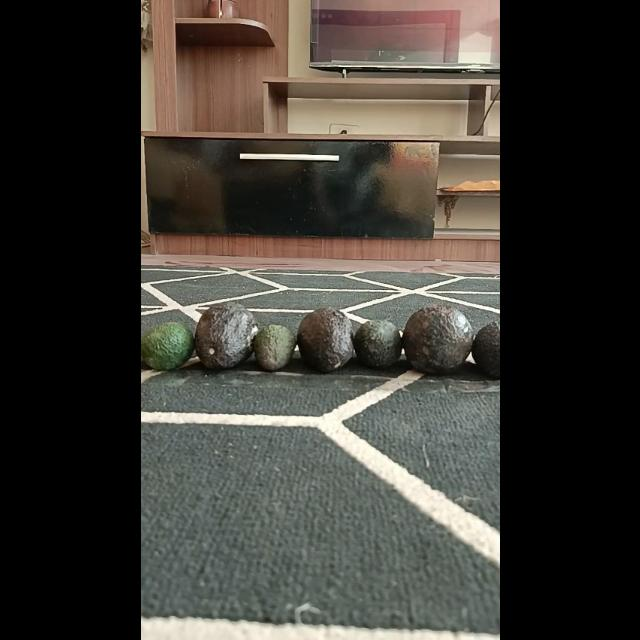Primera: (402, 304, 474, 374), (194, 302, 256, 368), (296, 307, 354, 371)
Segunda: (140, 321, 193, 371), (352, 320, 402, 368)
Tercera: (252, 324, 294, 370)
